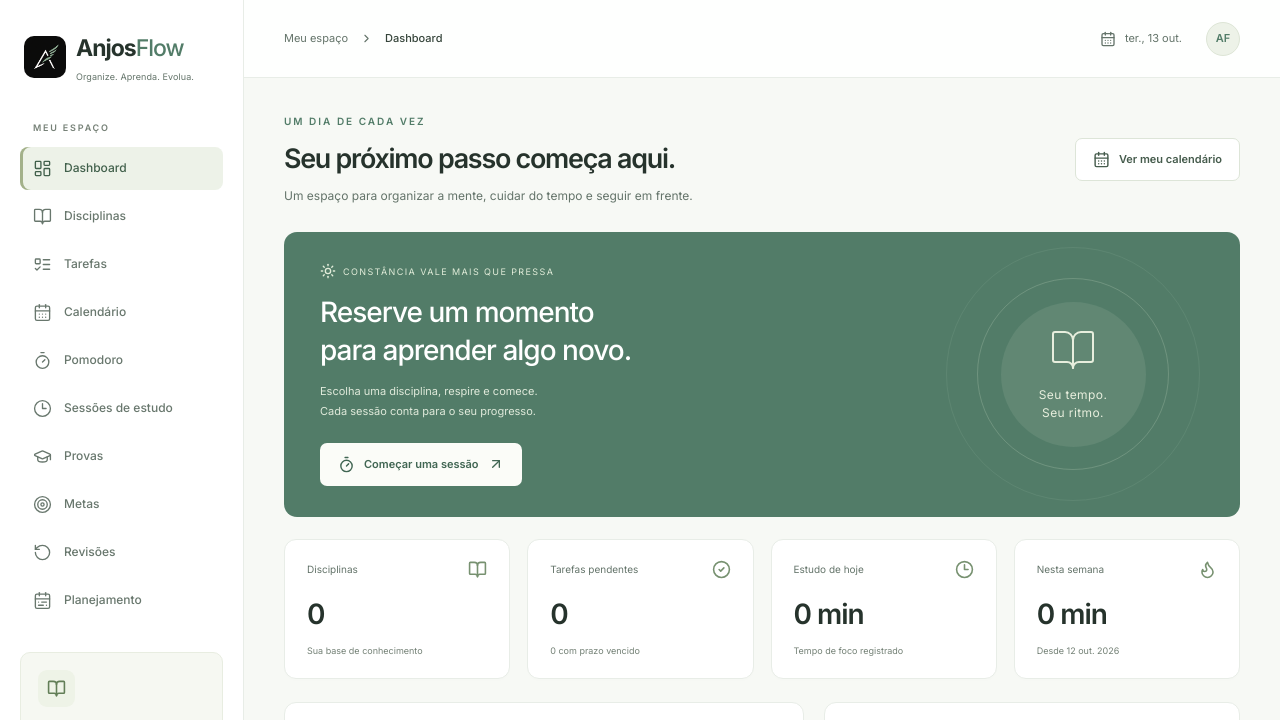
Test case: navega entre dashboard e disciplinas sem reload
Expected: the heading "Seu próximo passo começa aqui." is shown, x1=284 y1=142 x2=693 y2=176
Click the link "Disciplinas" at (80, 216), box x1=33 y1=207 x2=126 y2=226
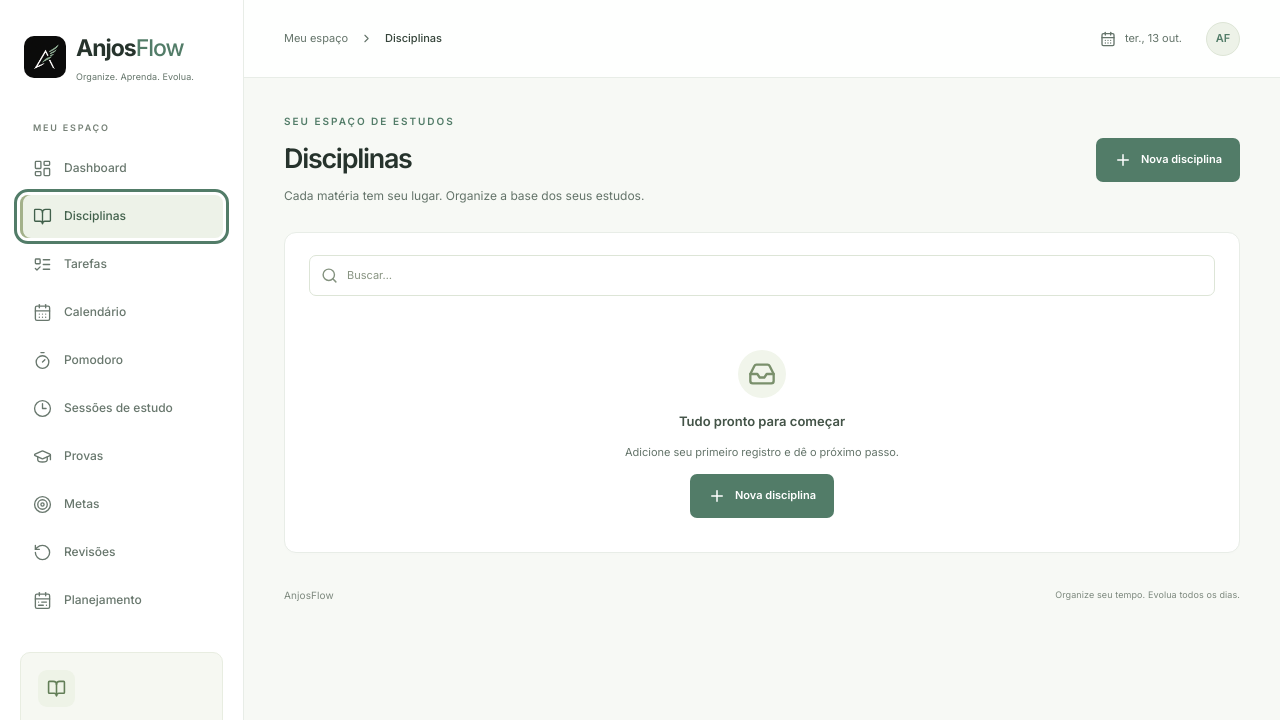
Now the heading "Disciplinas" is shown, box x1=284 y1=142 x2=412 y2=174
Now the heading "Tudo pronto para começar" is shown, box x1=679 y1=412 x2=845 y2=431
